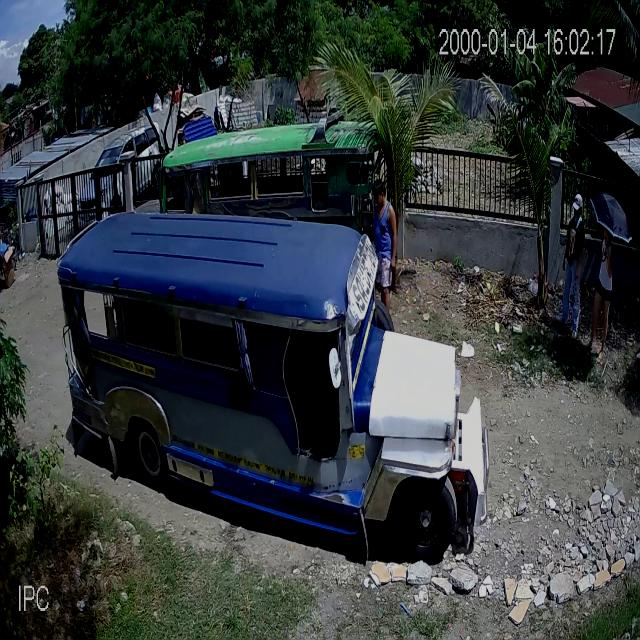standing: (556, 194, 588, 342), (589, 221, 616, 366)
walking: (369, 179, 399, 327)
